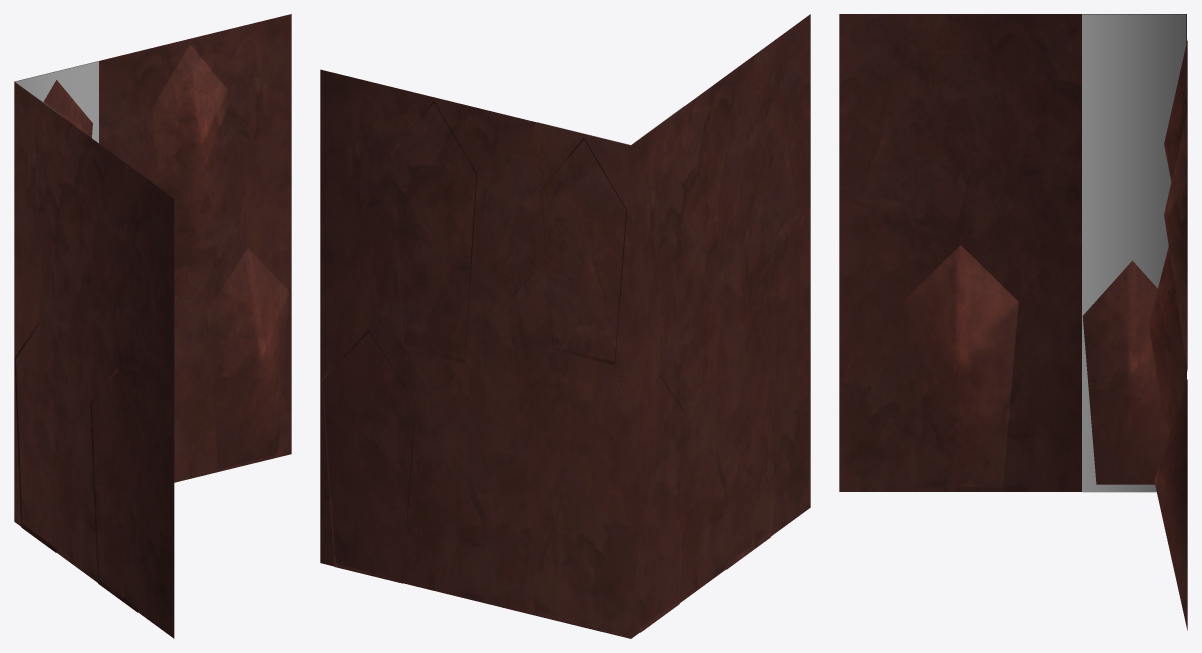
File: lava_wall_concave_01.fbx
3 renders of one model, left to right at view 1: azimuth 30°, elevation 25°; view 2: azimuth 150°, elevation 25°; view 3: azimuth 270°, elevation 25°, orthographic. The views are drawn at different scales.
Visible parts, largest first — view 1: lava_wall_concave_01-0; view 2: lava_wall_concave_01-0; view 3: lava_wall_concave_01-0.
Boxes of the visible parts, x1,y1,x2,y2 form: lava_wall_concave_01-0: (14, 14, 291, 638); lava_wall_concave_01-0: (320, 14, 810, 638); lava_wall_concave_01-0: (839, 14, 1187, 630).
Size of the model in its own units: 3.63 by 5.5 by 3.63.
